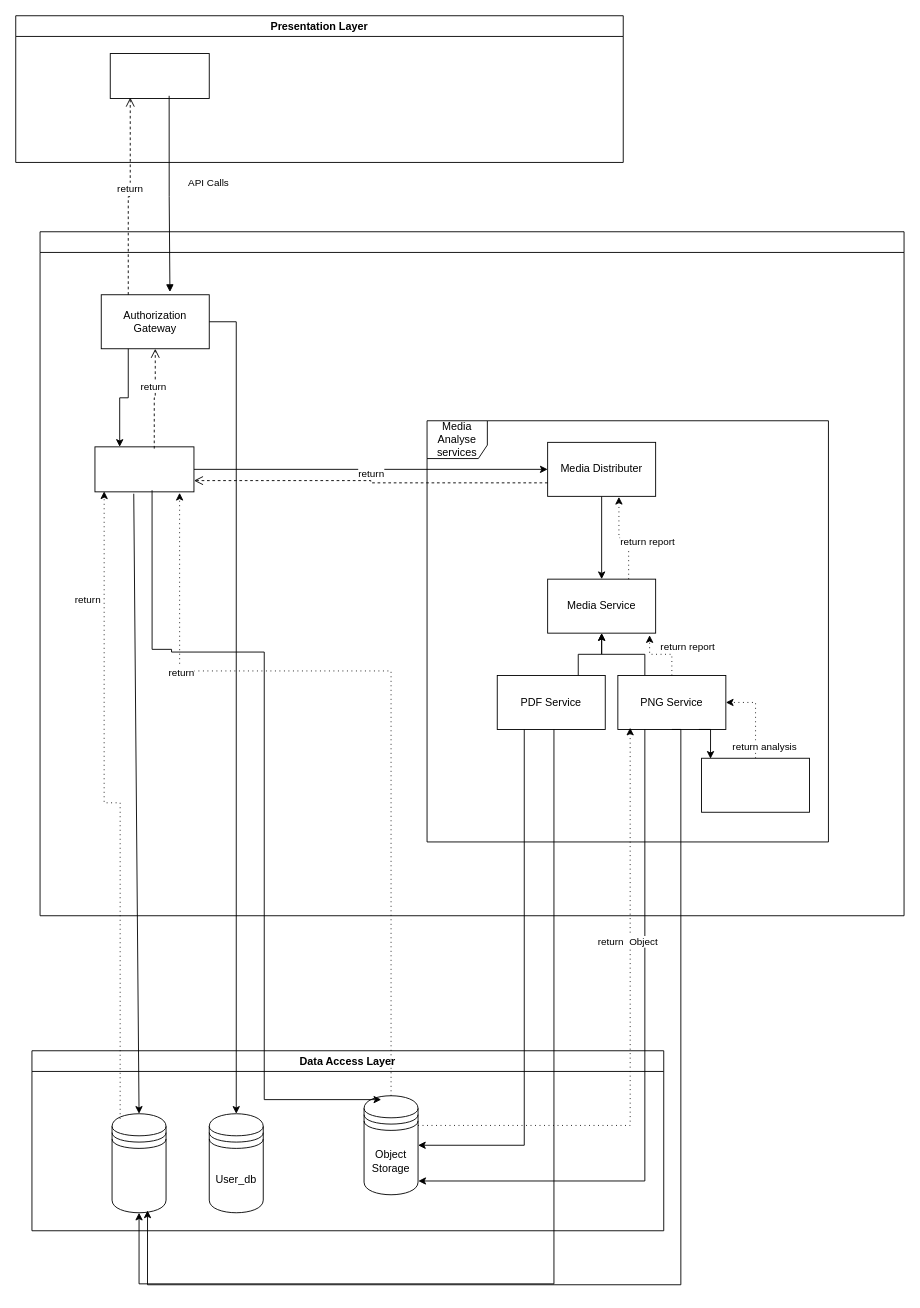
Some shapes in this 920 by 1308 pixel diagram are drawn without their labels. Each missing label, with the box of its shape:
Business Layer: (39, 231, 904, 916)
Case Management: (94, 446, 194, 492)
Cases Report: (111, 1113, 166, 1213)
image analysis ai: (701, 757, 810, 812)
UI Pages: (109, 53, 209, 99)
